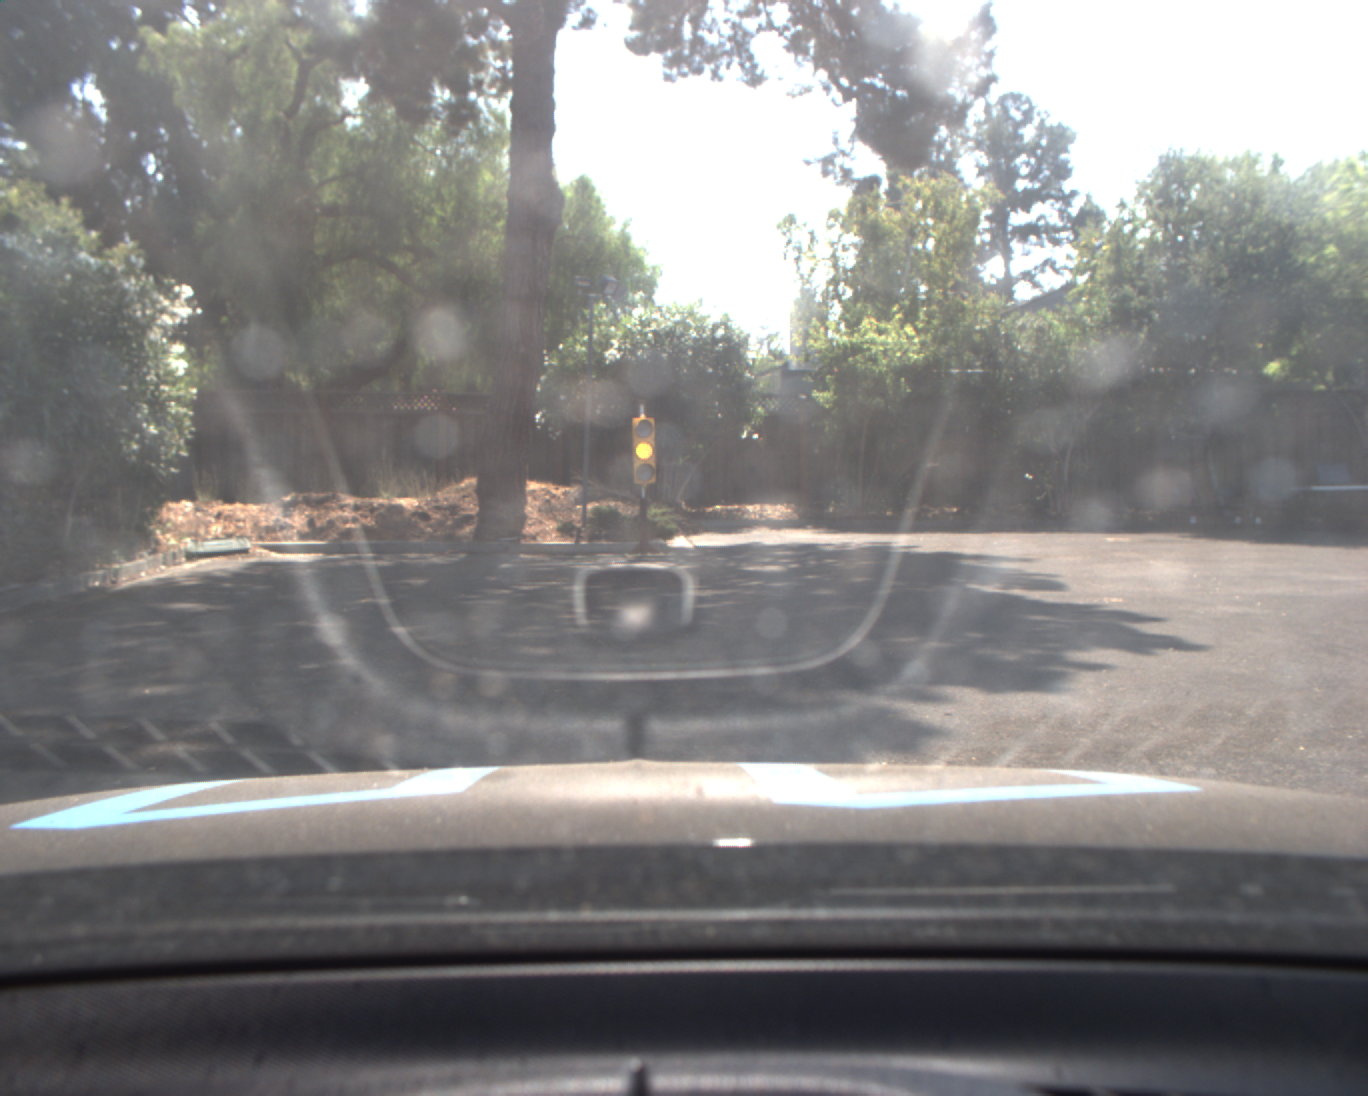yellow: (630, 412, 659, 485)
